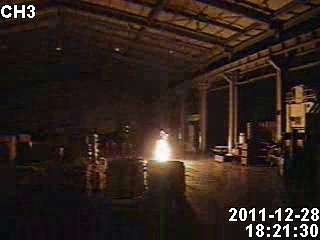fire: (150, 130, 173, 164)
